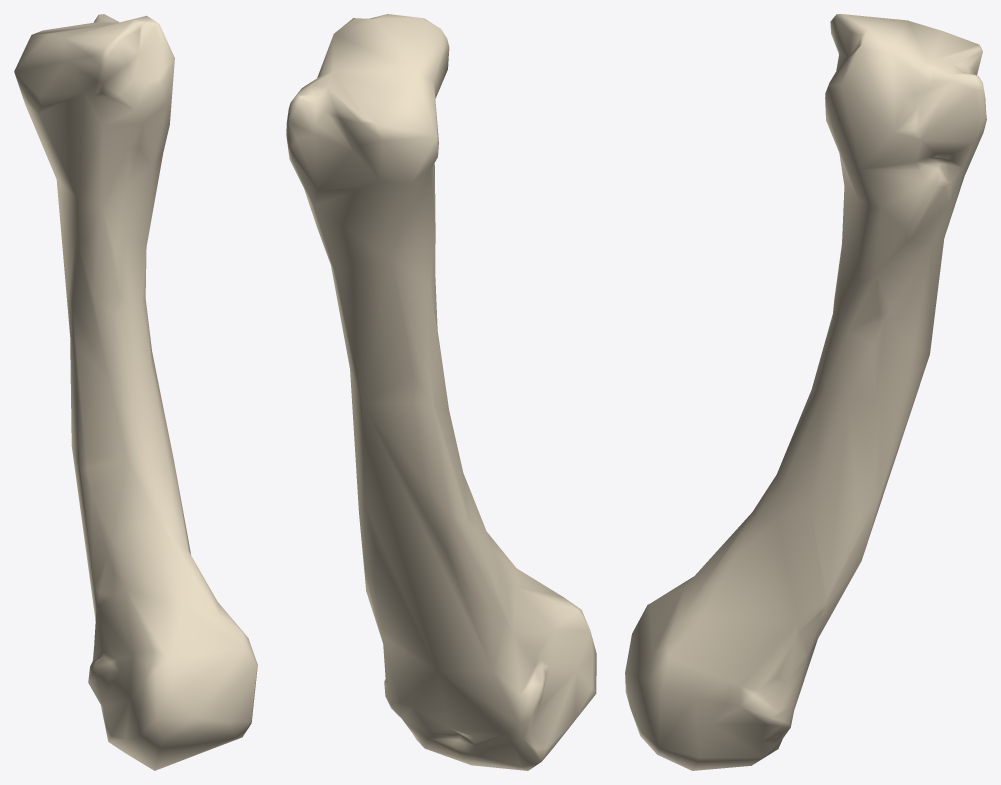
Rendered from fourth-metacarpal-bone-l.glb.
The picture shows the model from 3 angles, left to right: view 1: azimuth 30°, elevation 25°; view 2: azimuth 150°, elevation 25°; view 3: azimuth 270°, elevation 25°; orthographic projection. The views are drawn at different scales.
Visible parts, largest first — view 1: Fourth metacarpal bone.l; view 2: Fourth metacarpal bone.l; view 3: Fourth metacarpal bone.l.
Boxes of the visible parts, x1,y1,x2,y2 form: Fourth metacarpal bone.l: (14,14,257,770); Fourth metacarpal bone.l: (286,14,596,770); Fourth metacarpal bone.l: (625,14,986,770).
Size of the model in its own units: 0.0131 by 0.0621 by 0.0271.
